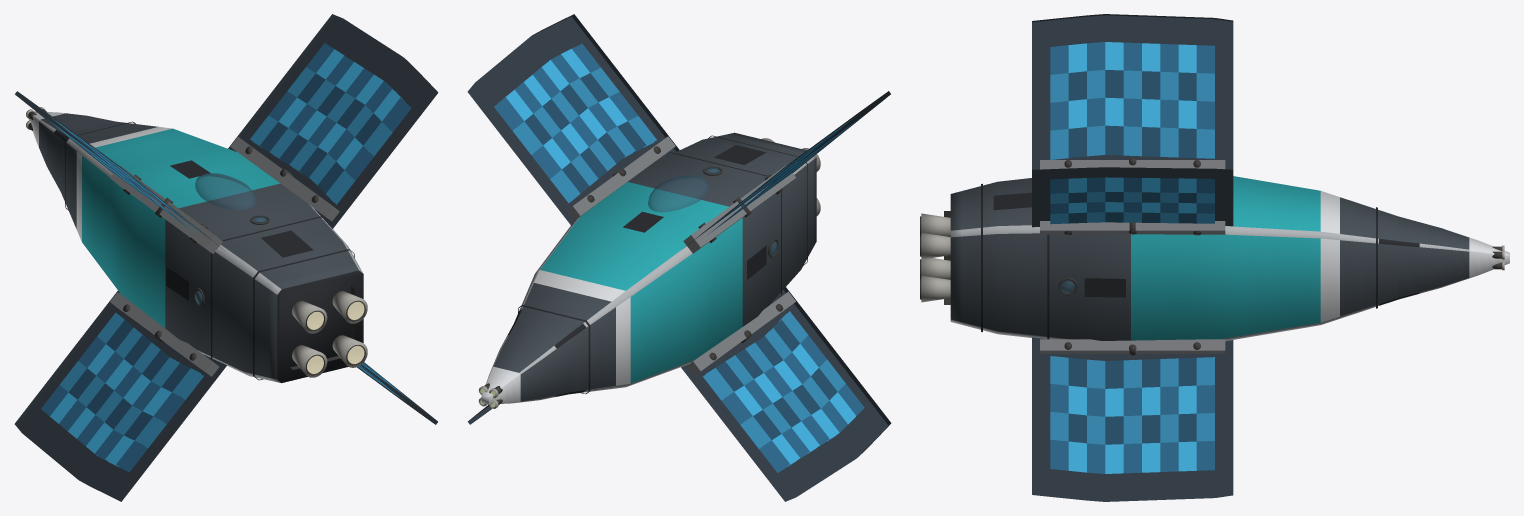
The model's file is Ship_Crosspanel_4.glb.
The picture shows the model from 3 angles, left to right: view 1: azimuth 30°, elevation 25°; view 2: azimuth 150°, elevation 25°; view 3: azimuth 270°, elevation 25°; orthographic projection. The views are drawn at different scales.
Parts seen in each view (by area): view 1: Fuselage_SquareBody, SolarPanelWing_LowerLeftRidge_RectangularPhotovoltaicGrid, SolarPanelWing_TopRightRidge_RectangularPhotovoltaicGrid, Nose_SquareTaperedForwardSection, Canopy_DorsalLowSquareBubble, SolarPanelWing_TopLeftRidge_RootHingeClamp, SolarPanelWing_TopLeftRidge_RectangularPhotovoltaicGrid, SolarPanelWing_TopRightRidge_RootHingeClamp, SolarPanelWing_LowerLeftRidge_RootHingeClamp, EngineEmitter, HullAccessPanel_TopAft, SolarPanelWing_LowerRightRidge_RectangularPhotovoltaicGrid (+4 smaller); view 2: Fuselage_SquareBody, SolarPanelWing_LowerLeftRidge_RectangularPhotovoltaicGrid, SolarPanelWing_TopRightRidge_RectangularPhotovoltaicGrid, Nose_SquareTaperedForwardSection, Canopy_DorsalLowSquareBubble, SolarPanelWing_TopLeftRidge_RootHingeClamp, SolarPanelWing_TopLeftRidge_RectangularPhotovoltaicGrid, SolarPanelWing_TopRightRidge_RootHingeClamp, SolarPanelWing_LowerLeftRidge_RootHingeClamp, HullAccessPanel_TopAft, HullAccessPanel_TopForward; view 3: Fuselage_SquareBody, SolarPanelWing_LowerRightRidge_RectangularPhotovoltaicGrid, SolarPanelWing_TopLeftRidge_RectangularPhotovoltaicGrid, SolarPanelWing_TopRightRidge_RectangularPhotovoltaicGrid, Nose_SquareTaperedForwardSection, SolarPanelWing_LowerRightRidge_RootHingeClamp, SolarPanelWing_TopRightRidge_RootHingeClamp, SolarPanelWing_TopLeftRidge_RootHingeClamp, HullAccessPanel_StarboardMid, EngineBell_LowerRight_TaperedSquareClusterNozzle, EngineBell_UpperRight_TaperedSquareClusterNozzle.
Boxes of the visible parts, x1,y1,x2,y2 form: Fuselage_SquareBody: (61, 121, 363, 383); SolarPanelWing_LowerLeftRidge_RectangularPhotovoltaicGrid: (14, 291, 226, 501); SolarPanelWing_TopRightRidge_RectangularPhotovoltaicGrid: (228, 14, 438, 228); Nose_SquareTaperedForwardSection: (28, 111, 115, 191); Canopy_DorsalLowSquareBubble: (195, 173, 256, 210); SolarPanelWing_TopLeftRidge_RootHingeClamp: (110, 165, 222, 253); SolarPanelWing_TopLeftRidge_RectangularPhotovoltaicGrid: (15, 91, 224, 250); SolarPanelWing_TopRightRidge_RootHingeClamp: (230, 137, 339, 221); SolarPanelWing_LowerLeftRidge_RootHingeClamp: (110, 292, 219, 376); EngineEmitter: (307, 302, 364, 373); HullAccessPanel_TopAft: (261, 230, 313, 257); SolarPanelWing_LowerRightRidge_RectangularPhotovoltaicGrid: (357, 362, 437, 424); Fuselage_SquareBody: (514, 132, 816, 394); SolarPanelWing_LowerLeftRidge_RectangularPhotovoltaicGrid: (681, 287, 891, 501); SolarPanelWing_TopRightRidge_RectangularPhotovoltaicGrid: (467, 14, 679, 225); Nose_SquareTaperedForwardSection: (481, 321, 571, 404); Canopy_DorsalLowSquareBubble: (648, 175, 709, 212); SolarPanelWing_TopLeftRidge_RootHingeClamp: (683, 165, 795, 253); SolarPanelWing_TopLeftRidge_RectangularPhotovoltaicGrid: (683, 91, 890, 248); SolarPanelWing_TopRightRidge_RootHingeClamp: (566, 136, 675, 220); SolarPanelWing_LowerLeftRidge_RootHingeClamp: (687, 291, 795, 376); HullAccessPanel_TopAft: (714, 145, 766, 164); HullAccessPanel_TopForward: (623, 211, 663, 232); Fuselage_SquareBody: (950, 176, 1398, 341); SolarPanelWing_LowerRightRidge_RectangularPhotovoltaicGrid: (1032, 337, 1233, 501); SolarPanelWing_TopLeftRidge_RectangularPhotovoltaicGrid: (1032, 14, 1233, 169); SolarPanelWing_TopRightRidge_RectangularPhotovoltaicGrid: (1032, 167, 1233, 227); Nose_SquareTaperedForwardSection: (1398, 216, 1509, 299); SolarPanelWing_LowerRightRidge_RootHingeClamp: (1040, 339, 1225, 353); SolarPanelWing_TopRightRidge_RootHingeClamp: (1040, 221, 1225, 234); SolarPanelWing_TopLeftRidge_RootHingeClamp: (1040, 160, 1225, 169); HullAccessPanel_StarboardMid: (1084, 278, 1125, 297); EngineBell_LowerRight_TaperedSquareClusterNozzle: (921, 275, 950, 302); EngineBell_UpperRight_TaperedSquareClusterNozzle: (921, 232, 950, 259).
Size of the model in its own units: 4.45 by 4.45 by 7.11.
